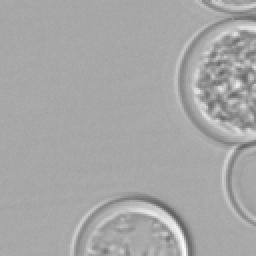picoshell: (176, 16, 254, 142), (70, 196, 190, 254), (220, 142, 254, 226), (200, 0, 254, 12)
